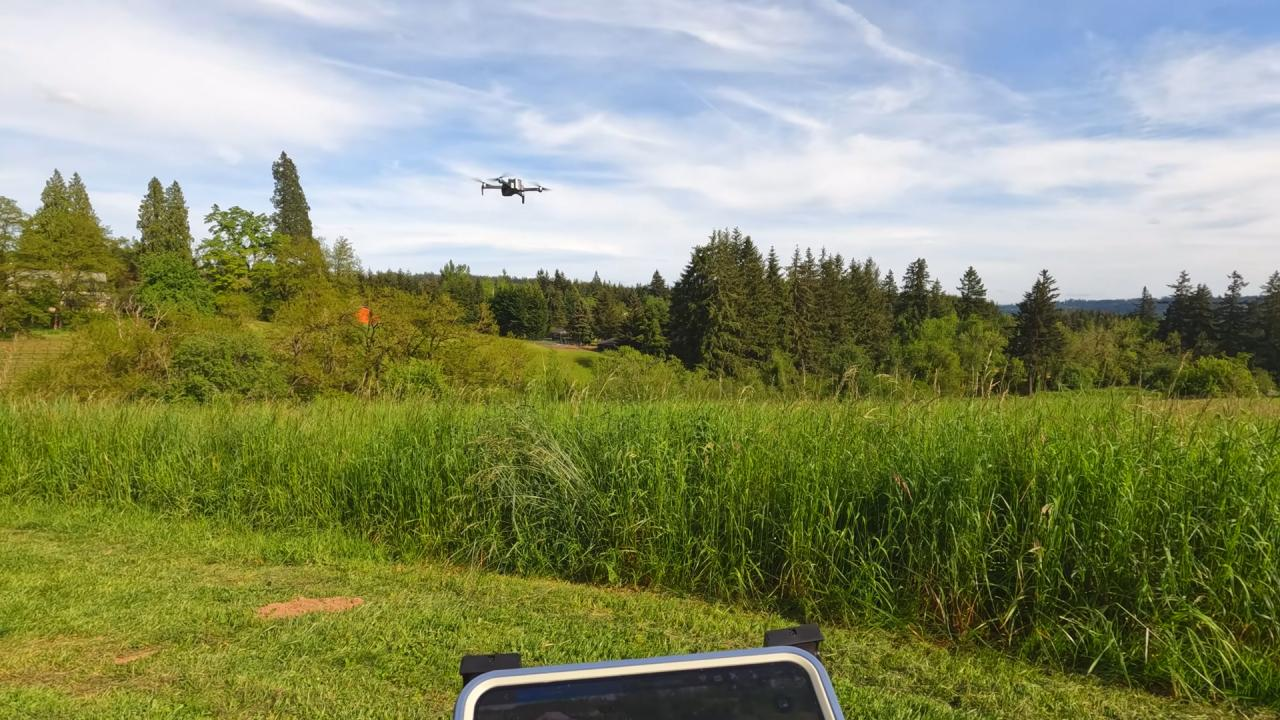Drone: (463, 161, 559, 216)
